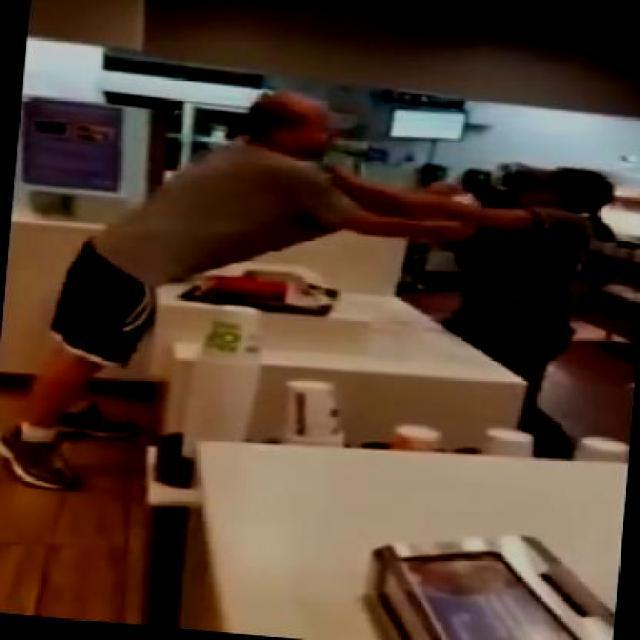fight: (110, 74, 616, 320)
